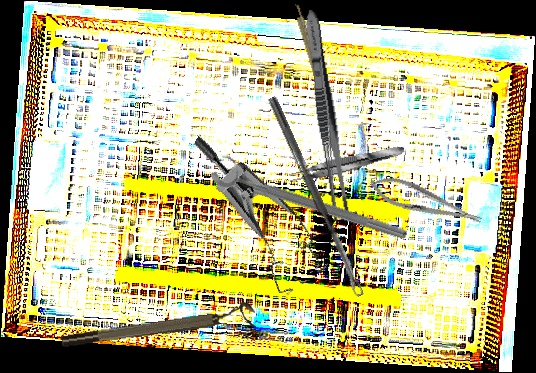Dressing Forceps: (300, 8, 354, 224)
Fixation Ring: (207, 151, 414, 246), (59, 300, 257, 351)
Needle Holder: (365, 169, 486, 235)
Scalpel Handle: (292, 2, 335, 120)
Speculum: (151, 134, 349, 307)
Surgical Spoon: (266, 95, 365, 299)
Tissue Forceps: (287, 141, 407, 187)
